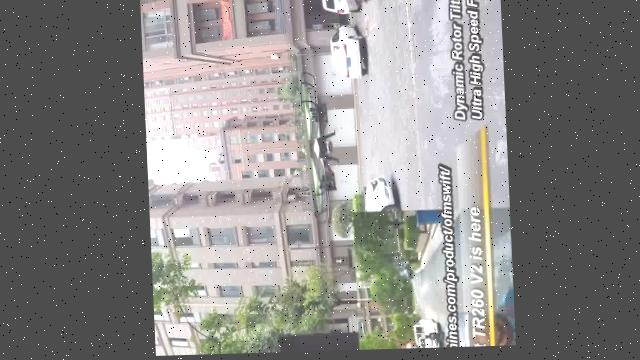drone: (291, 72, 344, 223)
